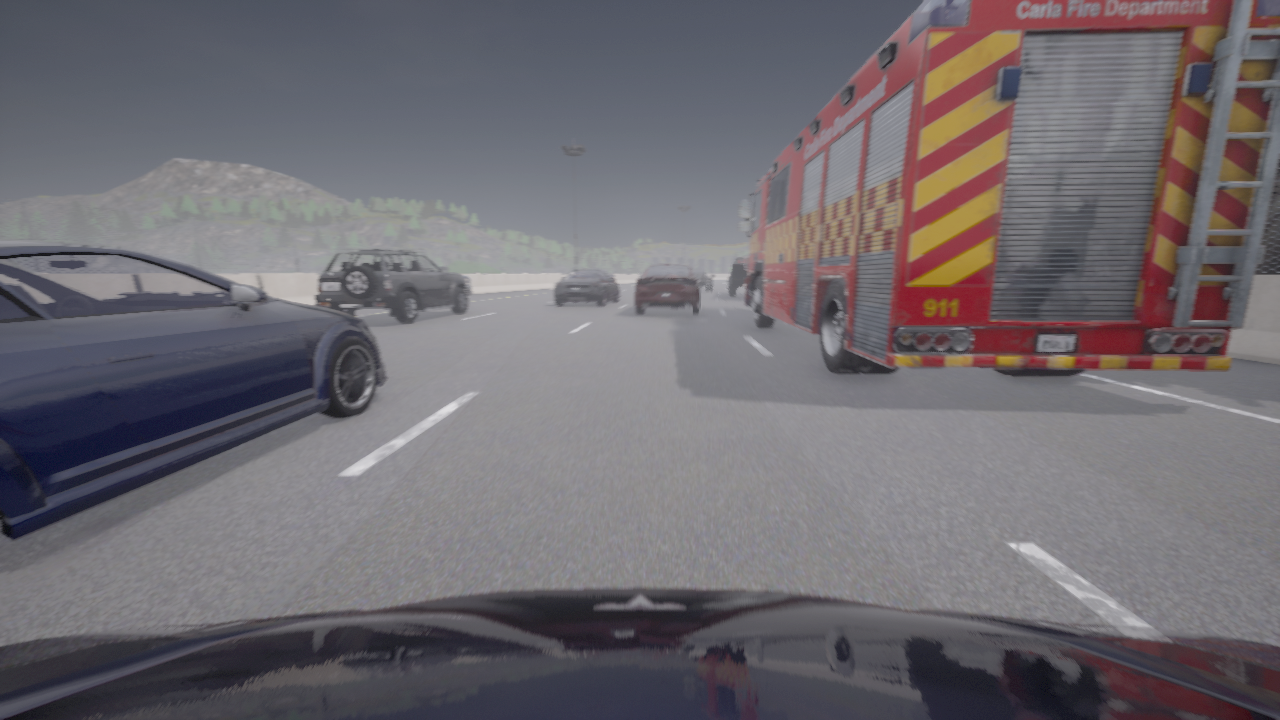cyclist: (738, 0, 1279, 376), (0, 588, 1279, 719), (314, 248, 471, 322), (635, 262, 702, 313), (553, 269, 619, 305), (729, 257, 748, 295), (692, 269, 713, 291), (600, 269, 615, 281)
